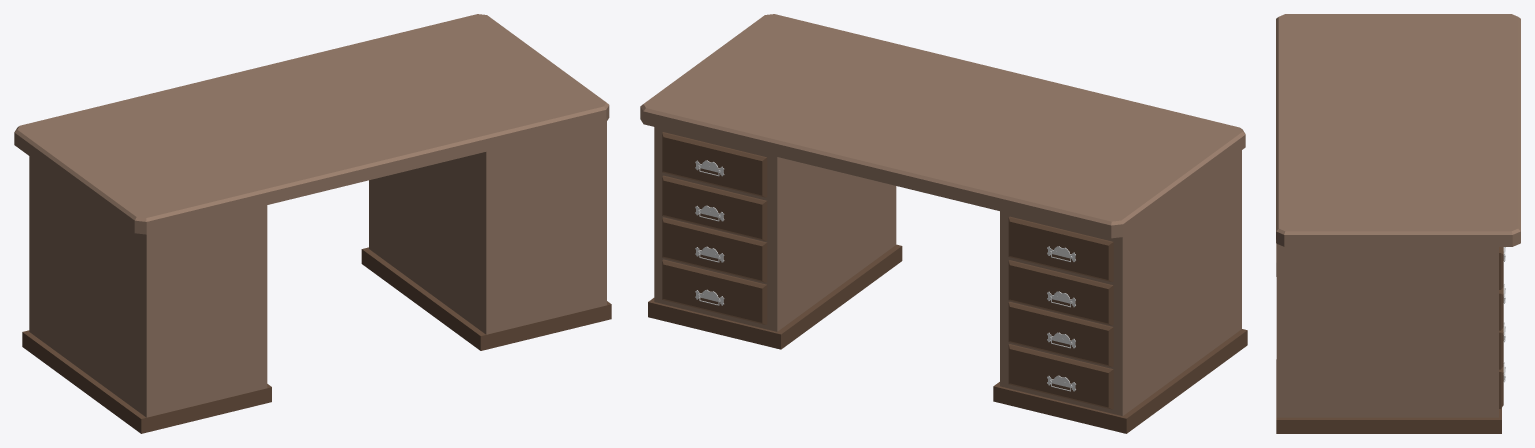
Rendered from Desk.fbx.
3 views of the same model, side by side, from view 1: azimuth 30°, elevation 25°; view 2: azimuth 150°, elevation 25°; view 3: azimuth 270°, elevation 25° (orthographic). The views are drawn at different scales.
Parts seen in each view (by area): view 1: desk; view 2: desk, Desk_handles; view 3: desk.
Part boxes in pixels (x1,y1,x2,y2): desk: [14, 14, 611, 433]; desk: [640, 14, 1247, 433]; Desk_handles: [695, 160, 1075, 391]; desk: [1276, 14, 1520, 433].
Bounding box in the file's own units: 451 × 194 × 213.
